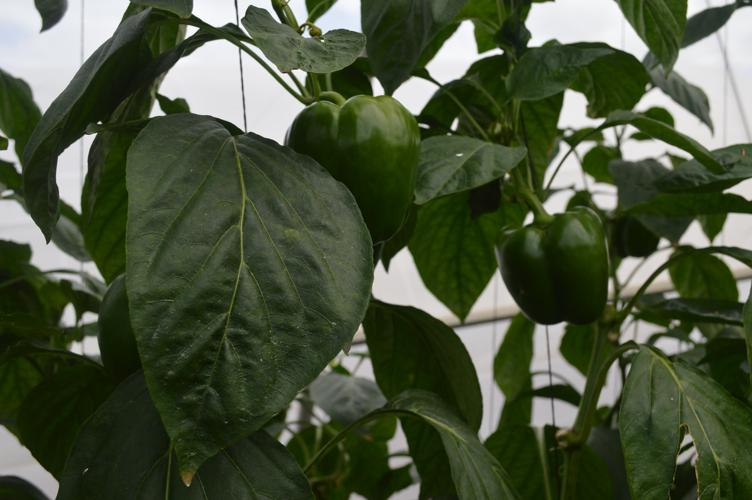BellPepper: (286, 97, 422, 241), (495, 207, 607, 324)
